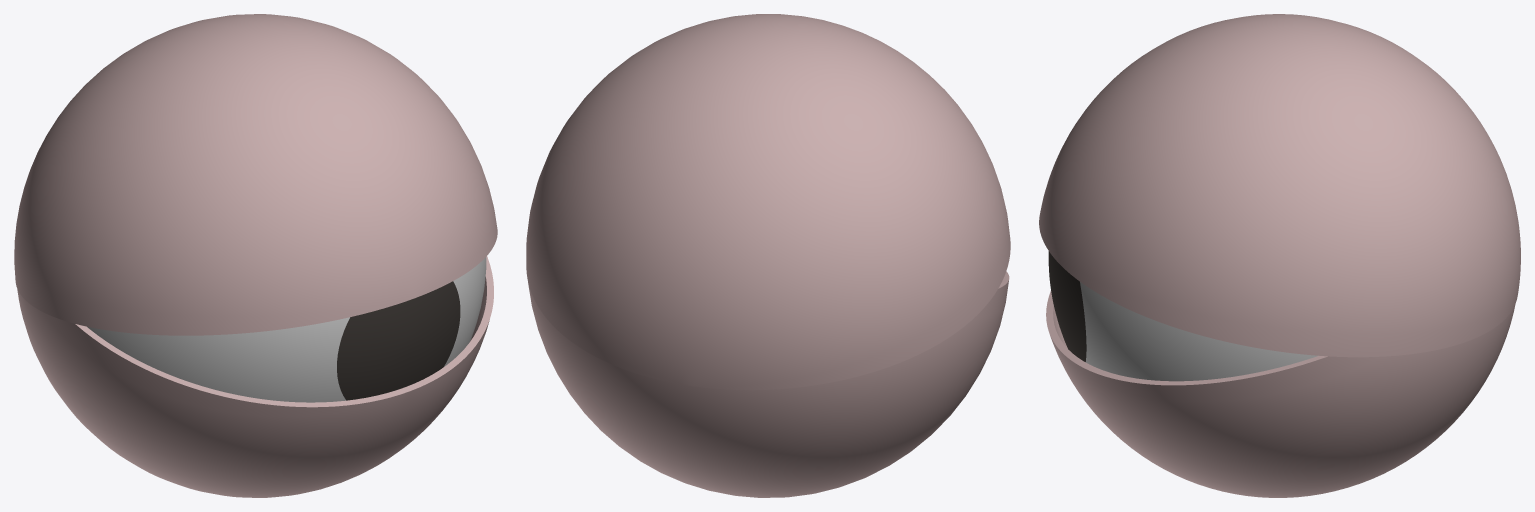
Rendered from Eye Ball.fbx.
The picture shows the model from 3 angles, left to right: view 1: azimuth 30°, elevation 25°; view 2: azimuth 150°, elevation 25°; view 3: azimuth 270°, elevation 25°; orthographic projection.
Parts seen in each view (by area): view 1: polySurface25, polySurface26, pSphere1; view 2: polySurface25, polySurface26; view 3: polySurface25, polySurface26, pSphere1.
Part boxes in pixels (bbox=[...]): polySurface25: bbox=[14, 14, 497, 335]; polySurface26: bbox=[17, 256, 493, 497]; pSphere1: bbox=[87, 256, 486, 402]; polySurface25: bbox=[526, 14, 1010, 390]; polySurface26: bbox=[528, 271, 1009, 497]; polySurface25: bbox=[1039, 14, 1520, 357]; polySurface26: bbox=[1046, 291, 1515, 497]; pSphere1: bbox=[1048, 251, 1318, 381].
Size of the model in its own units: 2.02 by 2.01 by 2.01.
